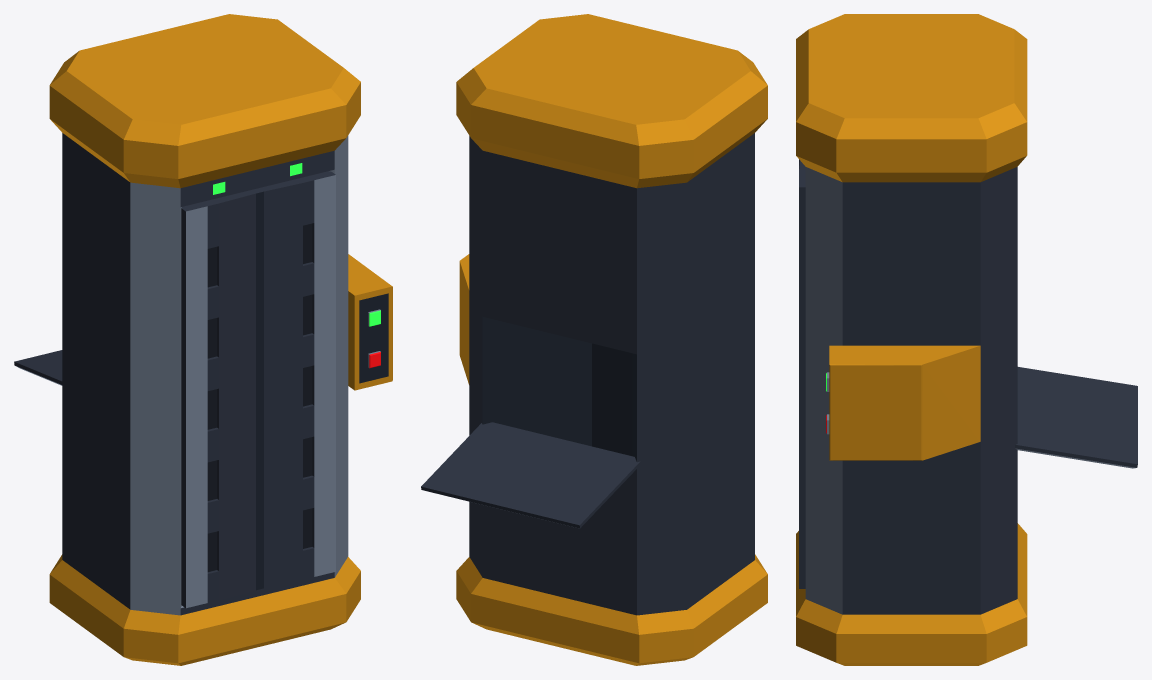
File: suit_storage_v3_maintenance.glb
3 views of the same model, side by side, from view 1: azimuth 30°, elevation 25°; view 2: azimuth 150°, elevation 25°; view 3: azimuth 270°, elevation 25° (orthographic).
Parts seen in each view (by area): view 1: Suit_Storage_Shell, Suit_Storage_Door, Suit_Storage_Service_Hatch; view 2: Suit_Storage_Shell, Suit_Storage_Service_Hatch, Suit_Storage_Door; view 3: Suit_Storage_Shell, Suit_Storage_Service_Hatch, Suit_Storage_Door.
Part boxes in pixels (left/top/right/bottom): Suit_Storage_Shell: left=49, top=14, right=392, bottom=665; Suit_Storage_Door: left=181, top=171, right=335, bottom=608; Suit_Storage_Service_Hatch: left=14, top=350, right=62, bottom=385; Suit_Storage_Shell: left=456, top=14, right=767, bottom=665; Suit_Storage_Service_Hatch: left=421, top=422, right=640, bottom=528; Suit_Storage_Door: left=592, top=343, right=632, bottom=455; Suit_Storage_Shell: left=796, top=14, right=1027, bottom=665; Suit_Storage_Service_Hatch: left=1015, top=367, right=1137, bottom=468; Suit_Storage_Door: left=799, top=159, right=805, bottom=588.
Bounding box in the file's own units: 1.17 × 2.28 × 1.29.
